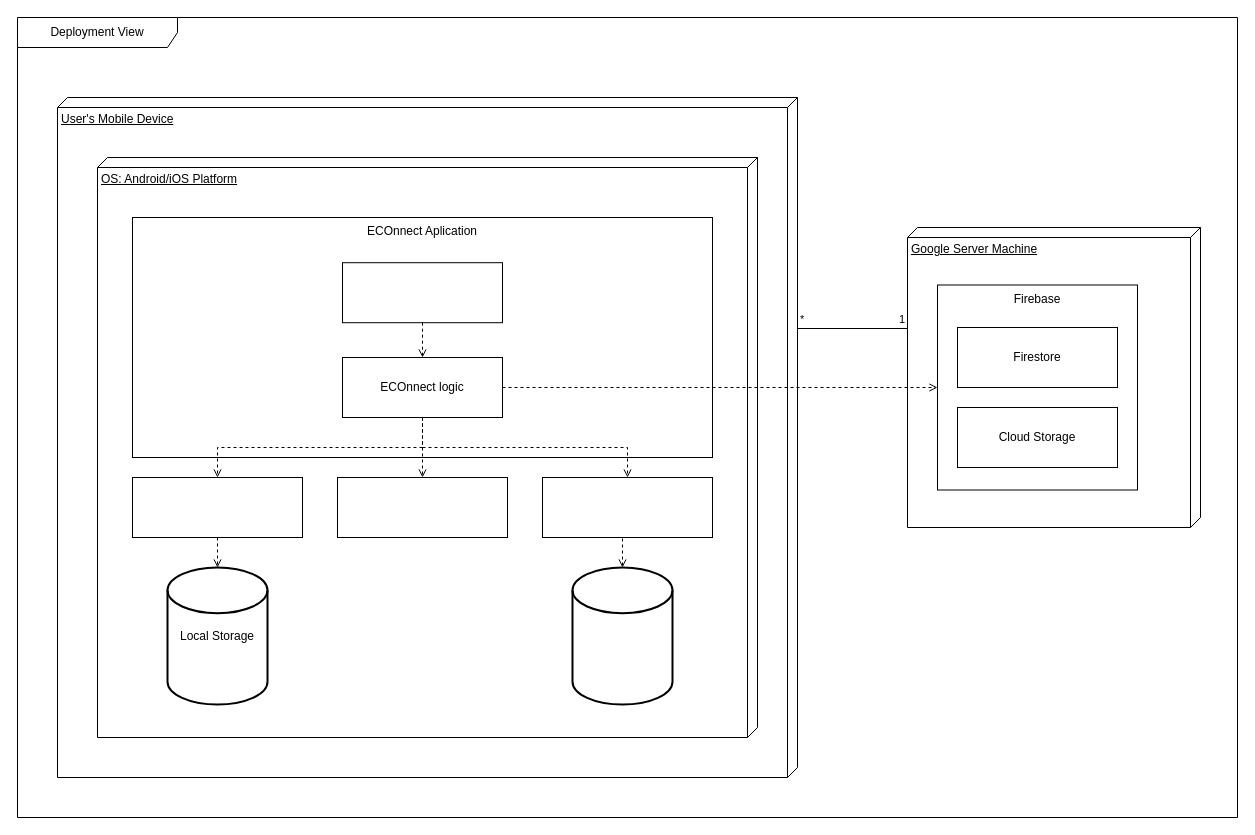
This 1255x835 diagram has some shape labels left out. The centre of each missing label's shape, as x and y in pixels:
"Camera Service" belongs at pixel 422 507.
"Device Disk (Media files)" belongs at pixel 622 635.
"ECOnnect UI" belongs at pixel 422 292.
"Gallery Service" belongs at pixel 627 507.
"Local Storage Service (API)" belongs at pixel 217 507.
